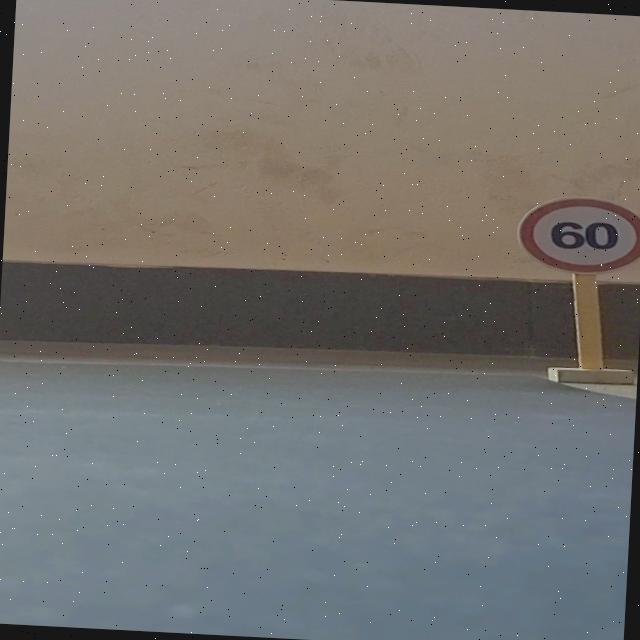Speed60: (511, 192, 640, 279)
